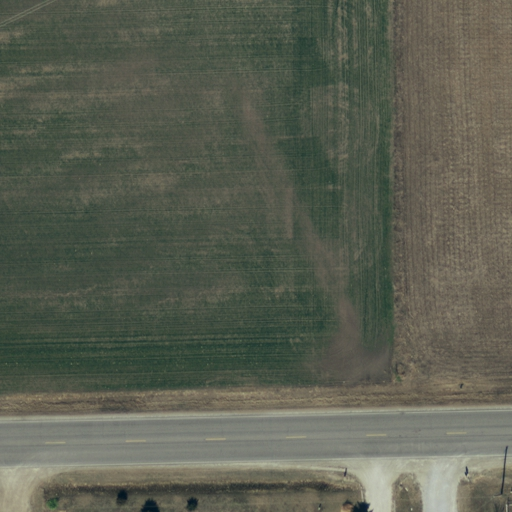DT: (487, 488, 510, 506)
